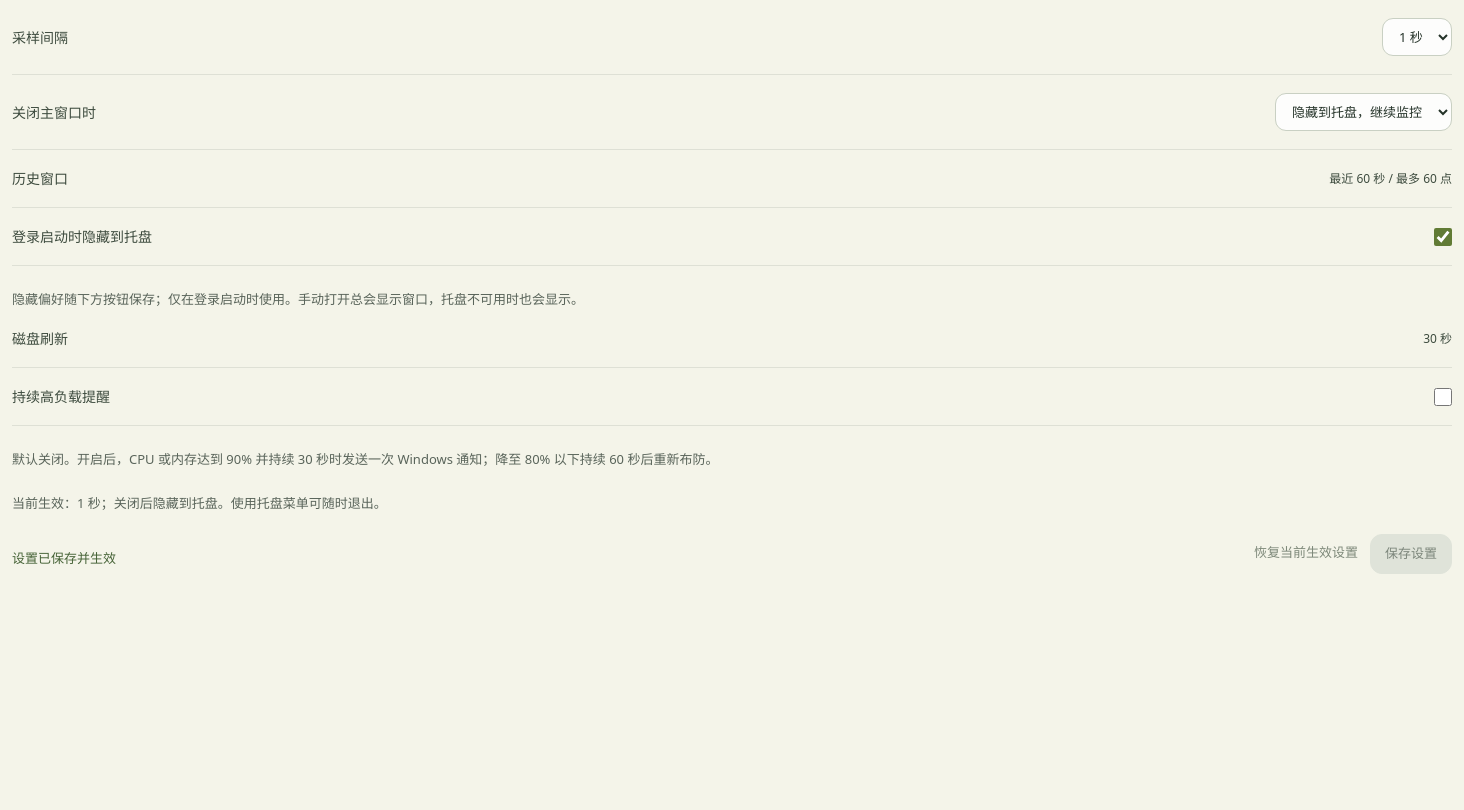
Test: only confirms successful saves and preserves draft and effective values after failure
Step 1. Select "5 秒" in the dropdown labelled "采样间隔" → (1417, 37), box x1=1382 y1=18 x2=1452 y2=56
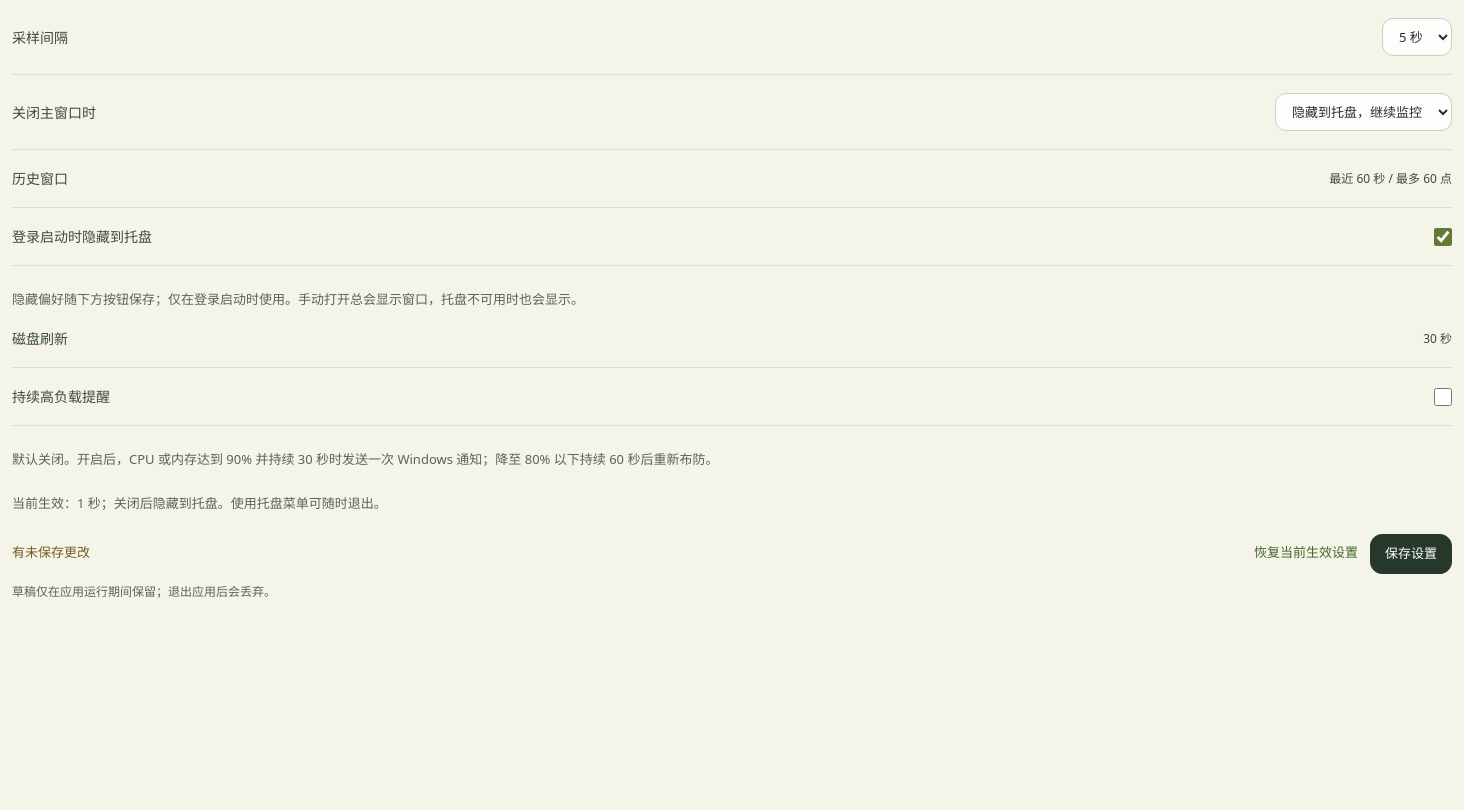
Step 2. Select "退出程序" in the dropdown labelled "关闭主窗口时" → (1364, 112), box x1=1275 y1=93 x2=1452 y2=131
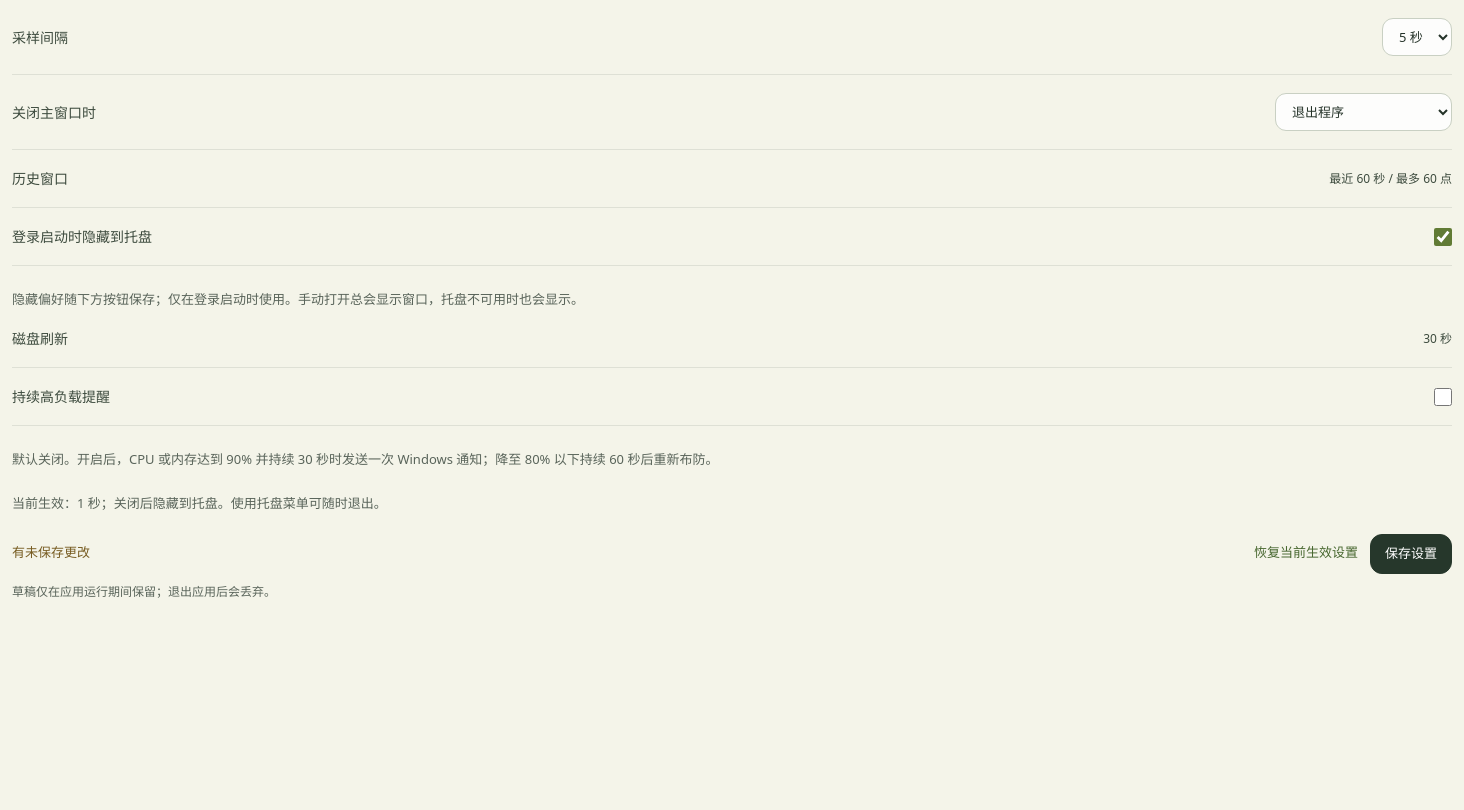
Step 3. Click the checkbox labelled "登录启动时隐藏到托盘" → (1443, 236), box x1=1434 y1=228 x2=1452 y2=246
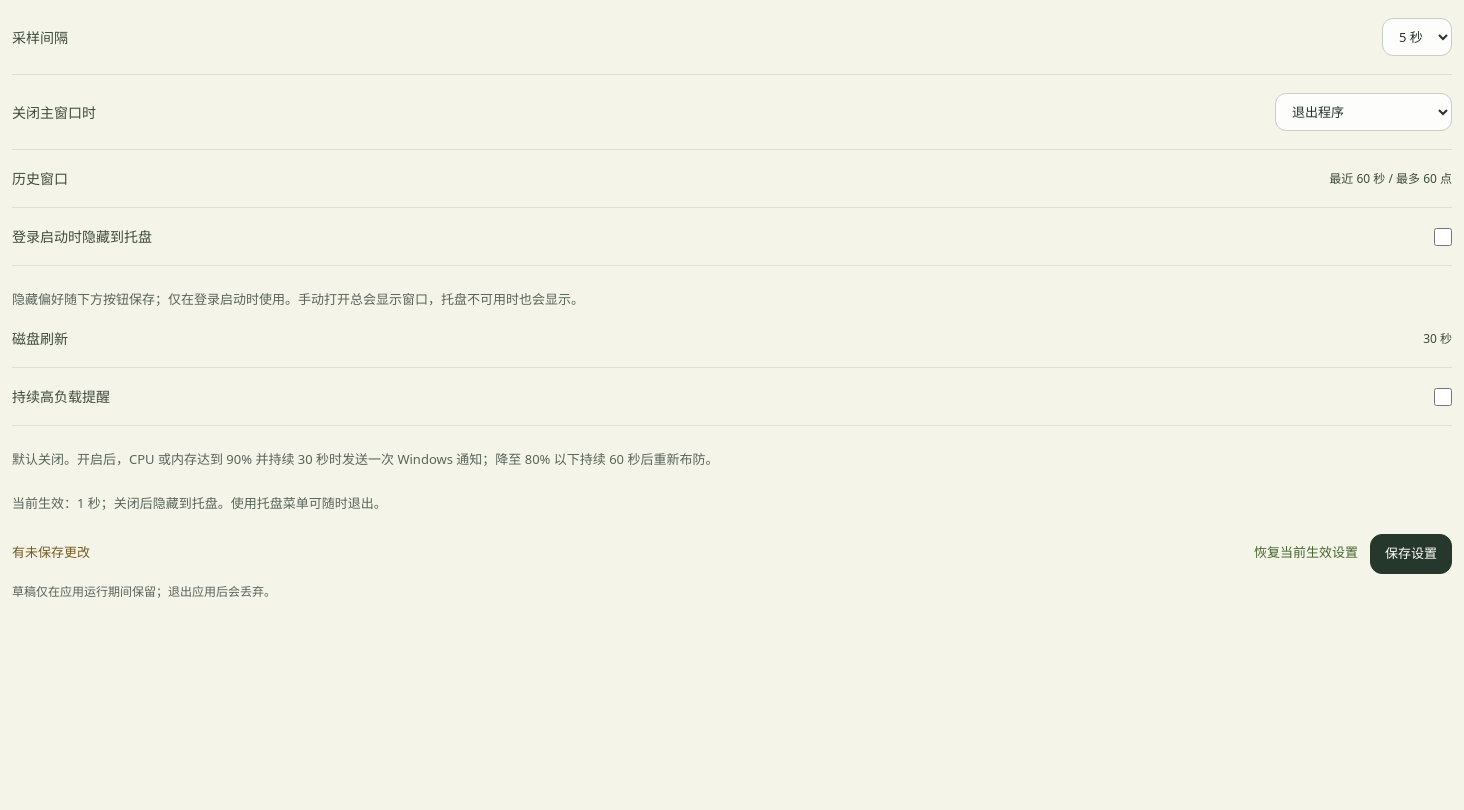
Step 4. Click the checkbox labelled "持续高负载提醒" → (1443, 397), box x1=1434 y1=388 x2=1452 y2=406
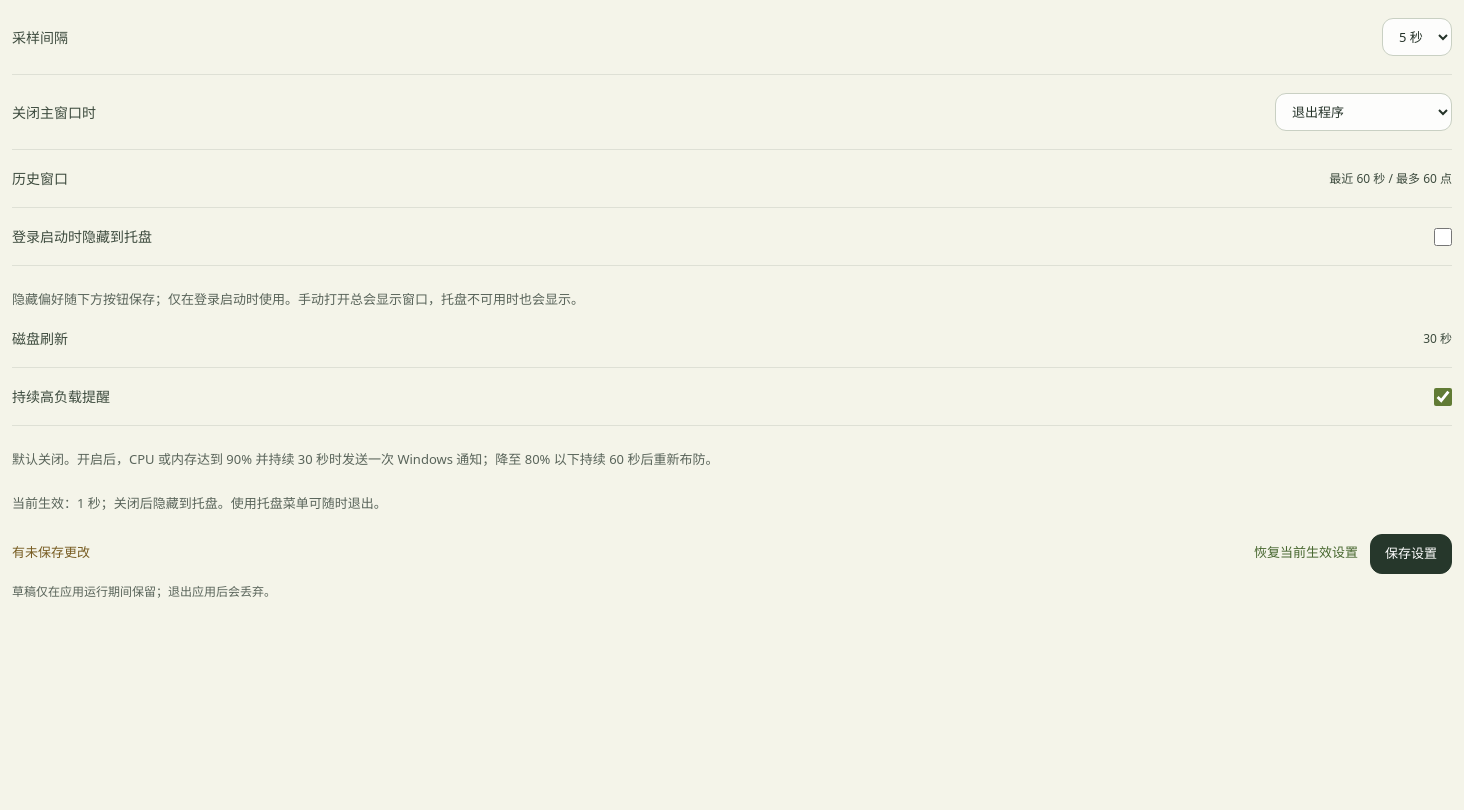
Step 5. Click the button "保存设置" → (1411, 554), box x1=1370 y1=534 x2=1452 y2=574
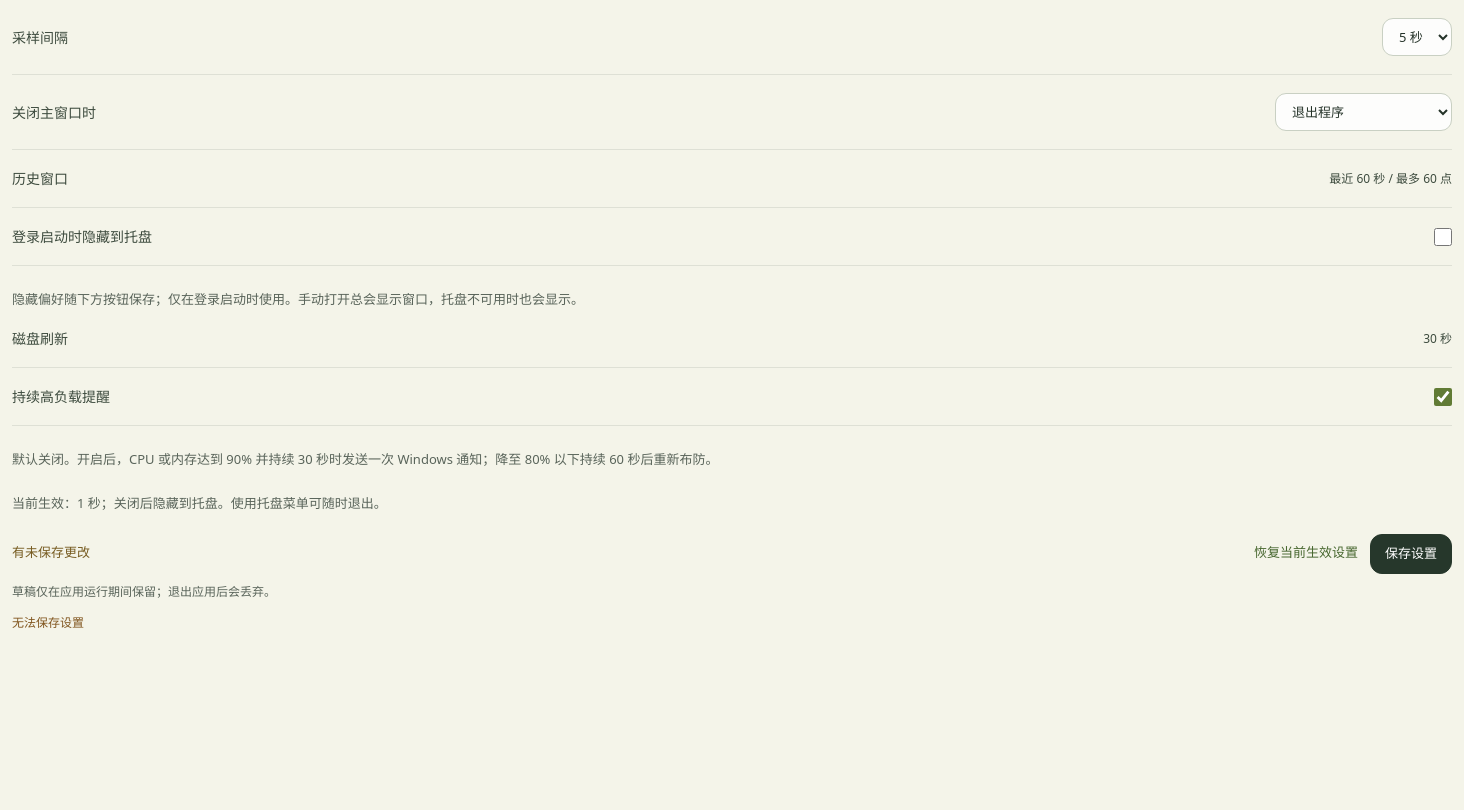
Expected: the text "当前生效：1 秒；关闭后隐藏到托盘。使用托盘菜单可随时退出。" is shown, x1=12 y1=494 x2=387 y2=512
Expected: the message "无法保存设置" is shown, x1=12 y1=614 x2=84 y2=631
Step 6. Click the button "保存设置" → (1411, 554), box x1=1370 y1=534 x2=1452 y2=574
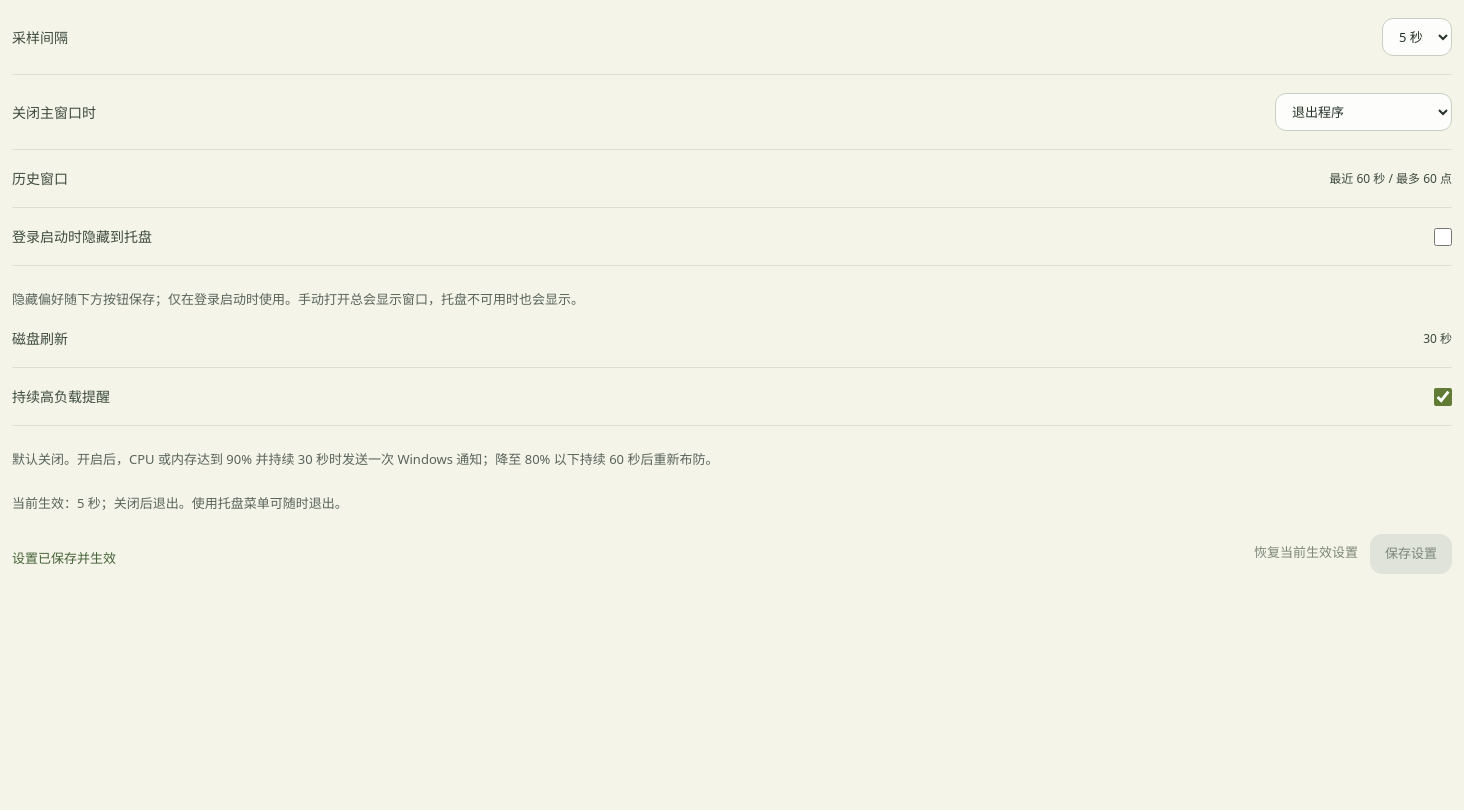
Expected: the text "设置已保存并生效" is shown, x1=12 y1=549 x2=116 y2=569
